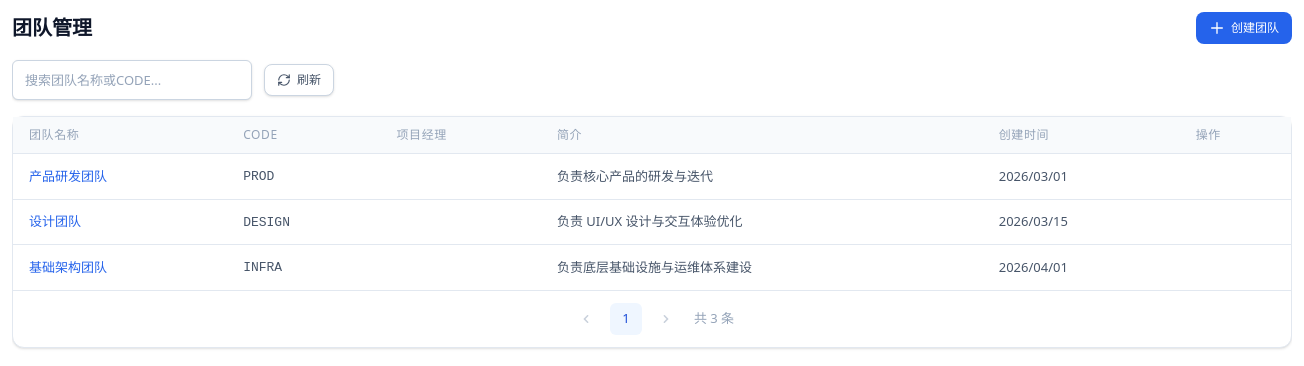
Test: TeamManagementPage › filters teams by search input
The width and height of the screenshot is (1304, 366).
Check: the link "产品研发团队" is shown, box [29, 166, 107, 184]
Type "设计" into the field with test id "team-search-input" at (132, 80), box [12, 60, 252, 100]
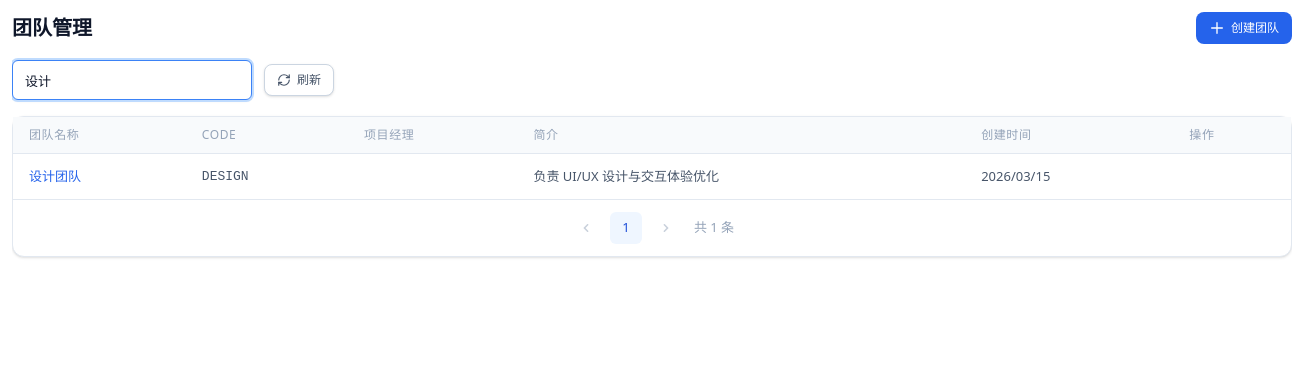
Check: the link "设计团队" is shown, box [29, 166, 81, 184]
Check: the link "产品研发团队" is gone
Check: the link "基础架构团队" is gone
